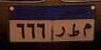6: (16, 21, 26, 40), (36, 22, 47, 39), (27, 22, 35, 40)
Taa: (68, 23, 80, 40)
meem: (82, 21, 92, 39)
raa: (54, 24, 66, 40)
